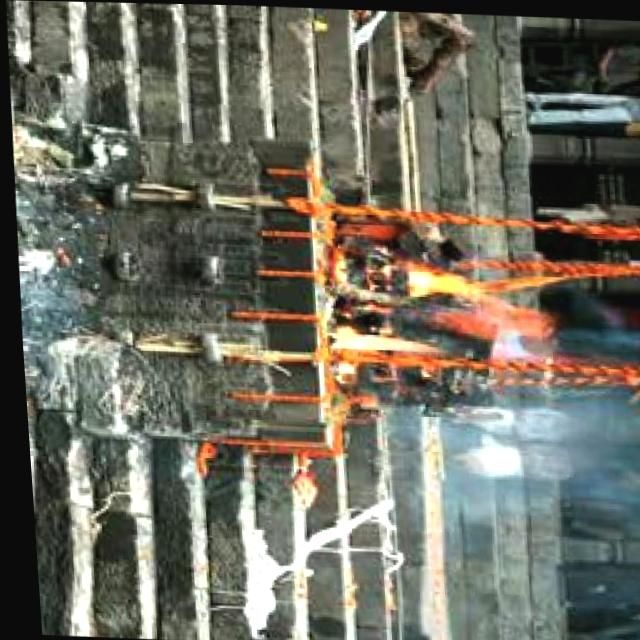Fire: (318, 264, 551, 365)
